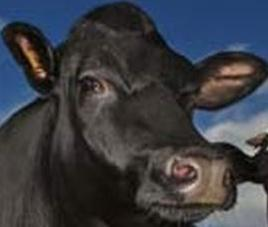muzzles: (134, 147, 240, 223)
